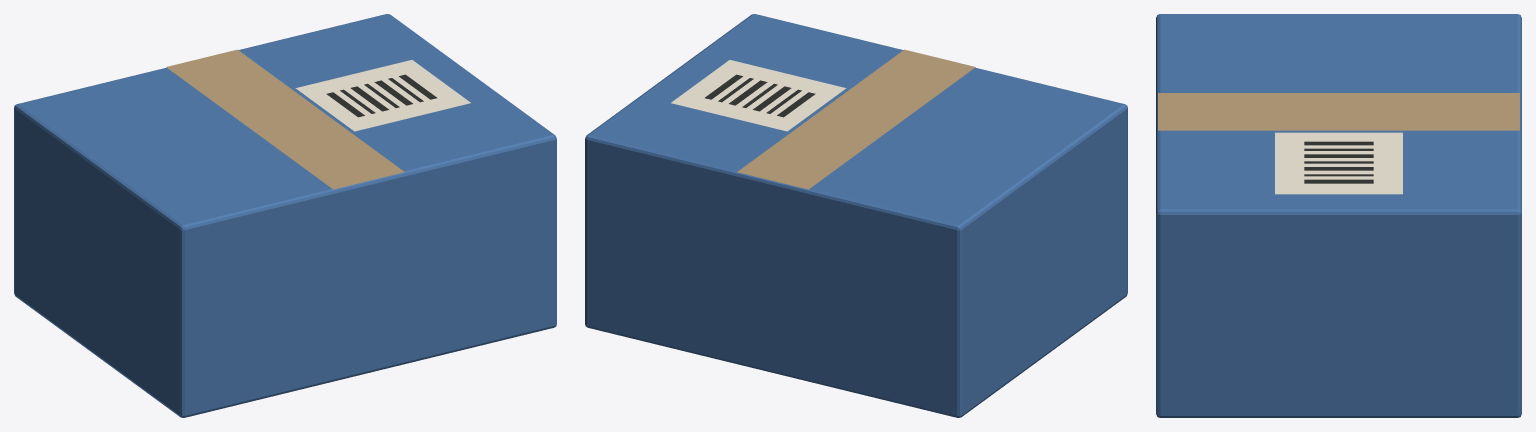
The picture shows the model from 3 angles, left to right: view 1: azimuth 30°, elevation 25°; view 2: azimuth 150°, elevation 25°; view 3: azimuth 270°, elevation 25°; orthographic projection. The views are drawn at different scales.
Parts seen in each view (by area): view 1: parcel_body, packing_tape, shipping_label; view 2: parcel_body, packing_tape, shipping_label; view 3: parcel_body, packing_tape, shipping_label, label_bar_0, label_bar_6.
Part boxes in pixels (x1,y1,x2,y2): parcel_body: (14,14,556,417); packing_tape: (166,49,404,189); shipping_label: (295,60,470,131); parcel_body: (585,14,1127,417); packing_tape: (737,49,975,189); shipping_label: (671,60,846,131); parcel_body: (1156,14,1521,417); packing_tape: (1158,93,1519,130); shipping_label: (1275,132,1402,194); label_bar_0: (1304,141,1373,145); label_bar_6: (1304,179,1373,183).
Bounding box in the file's own units: 0.045 × 0.022 × 0.035.
